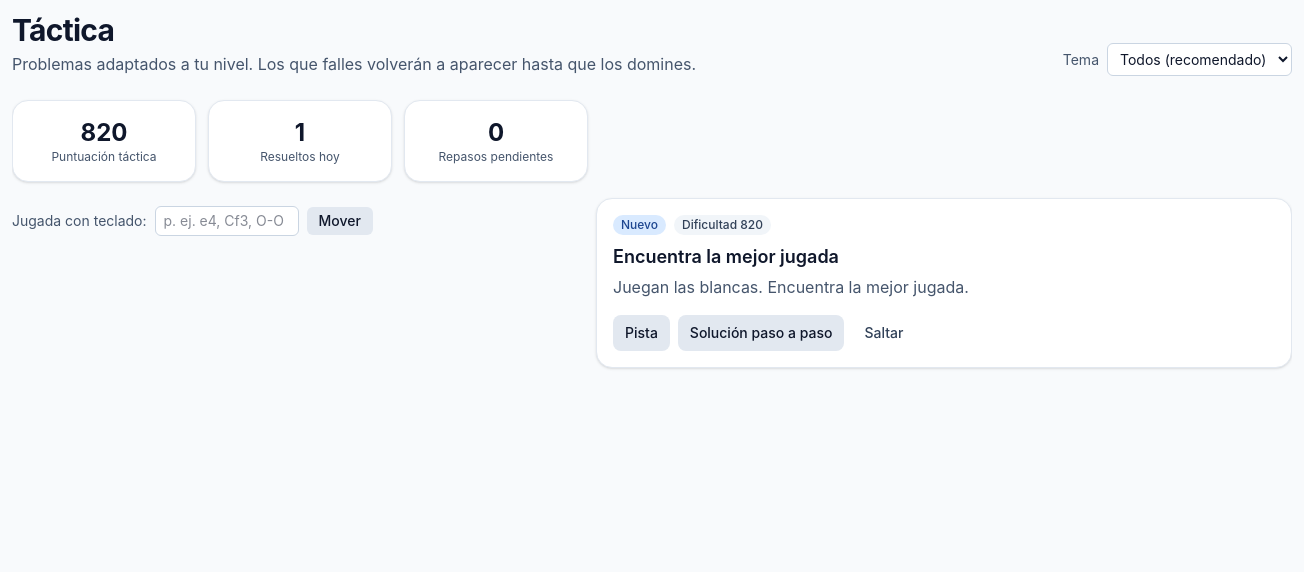
Test: TacticsPage › muestra la solución paso a paso con respuesta del rival
Check: the text "Dificultad 820" is shown, box x1=674 y1=215 x2=771 y2=235
Click the button "Solución paso a paso".
click(761, 333)  # box x1=678 y1=315 x2=844 y2=351
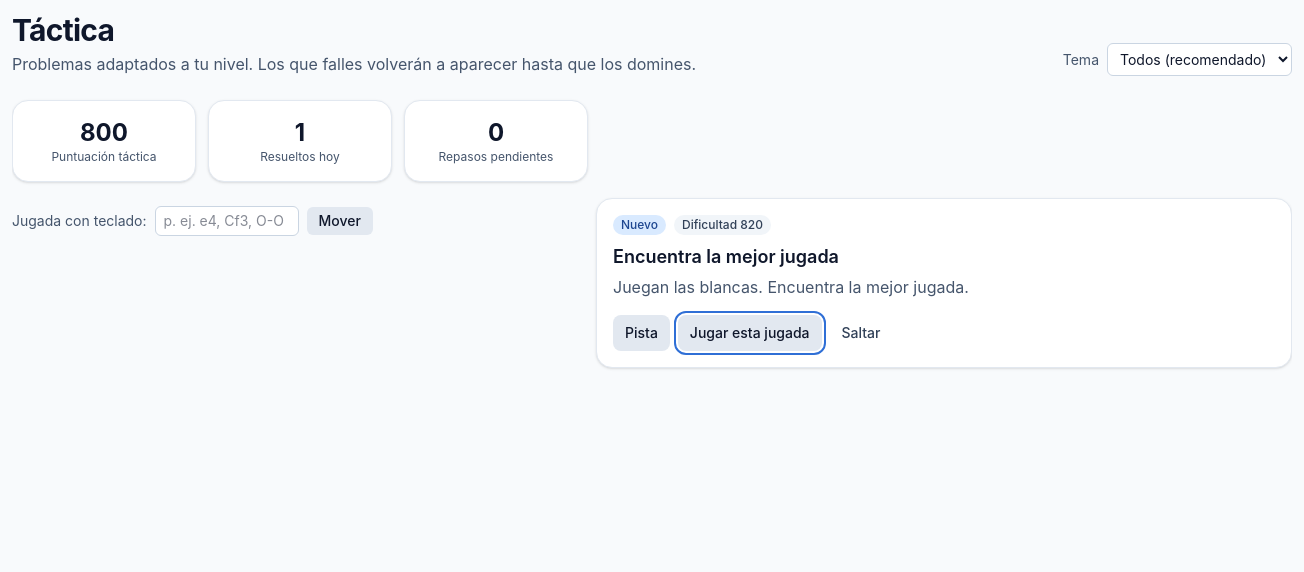
Click the button "Jugar esta jugada".
click(750, 333)  # box x1=678 y1=315 x2=822 y2=351
Wait 600 ms
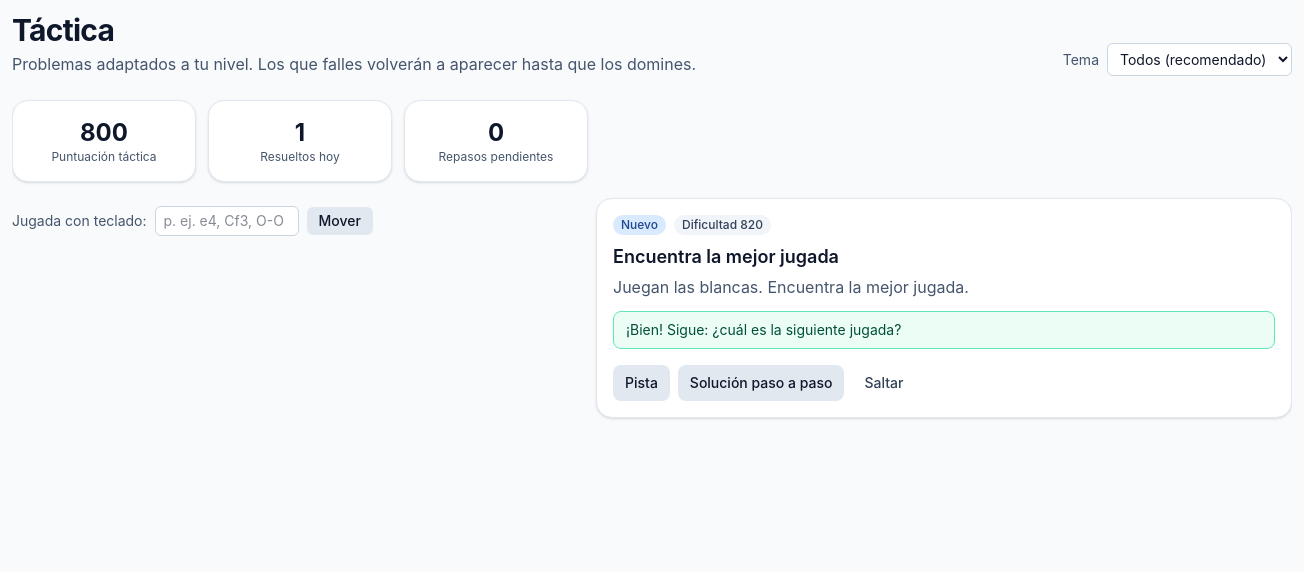
Click the button "Solución paso a paso".
click(761, 383)  # box x1=678 y1=365 x2=844 y2=401
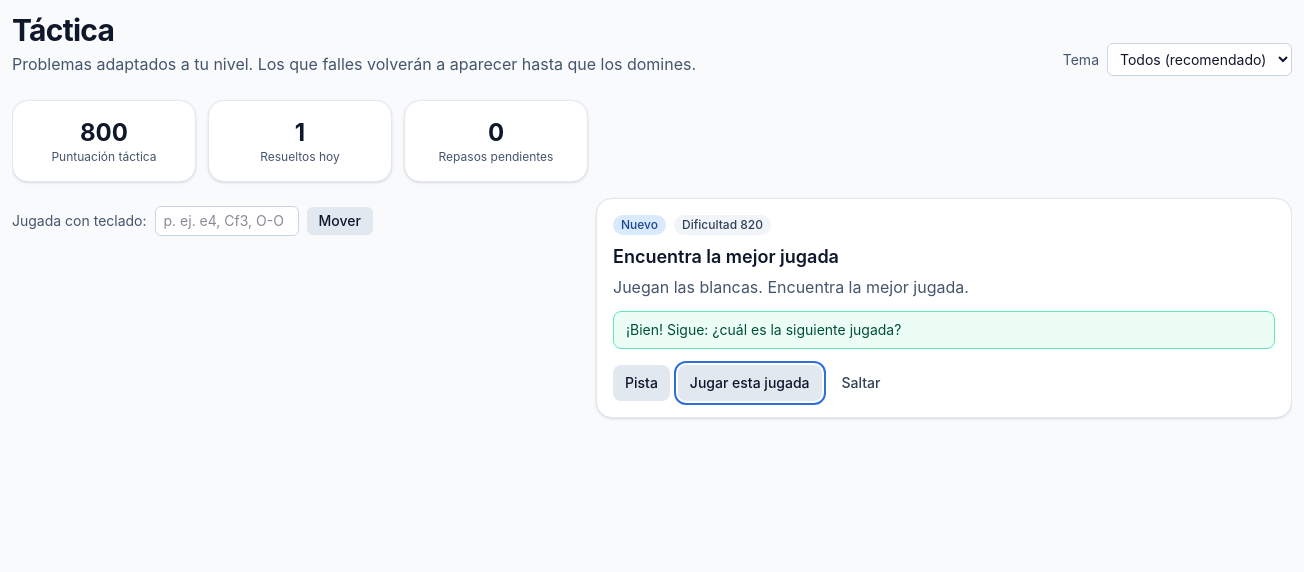
Click the button "Jugar esta jugada".
click(750, 383)  # box x1=678 y1=365 x2=822 y2=401
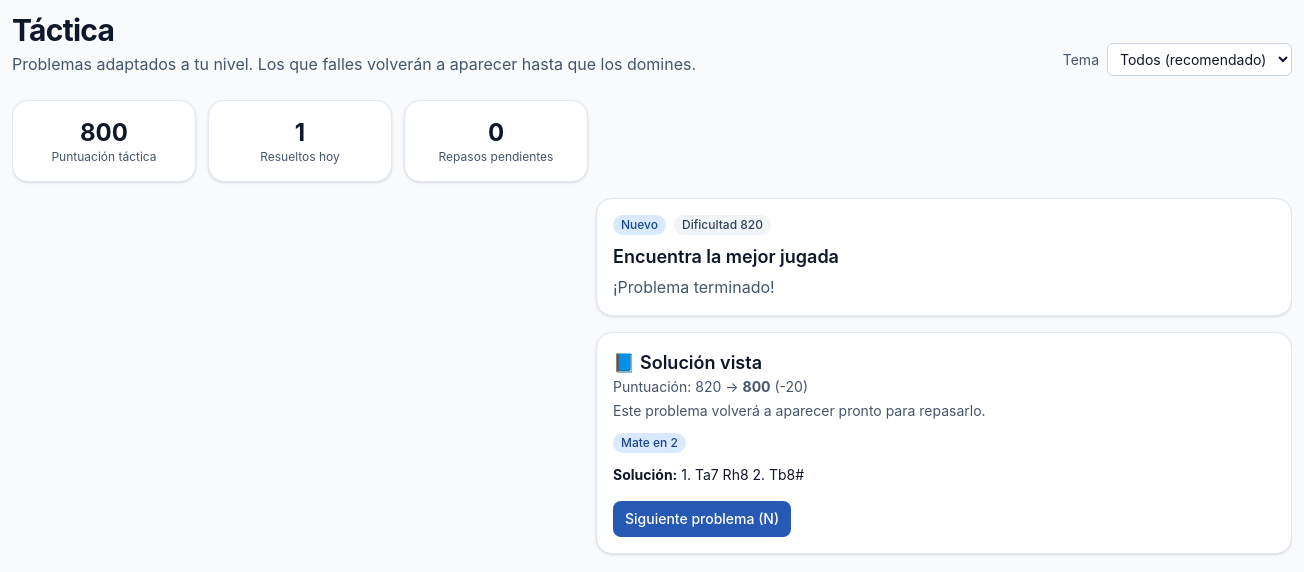
Check: the text "📘 Solución vista" is shown, box x1=613 y1=352 x2=762 y2=373
